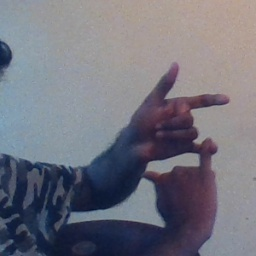S: (119, 59, 241, 204)
